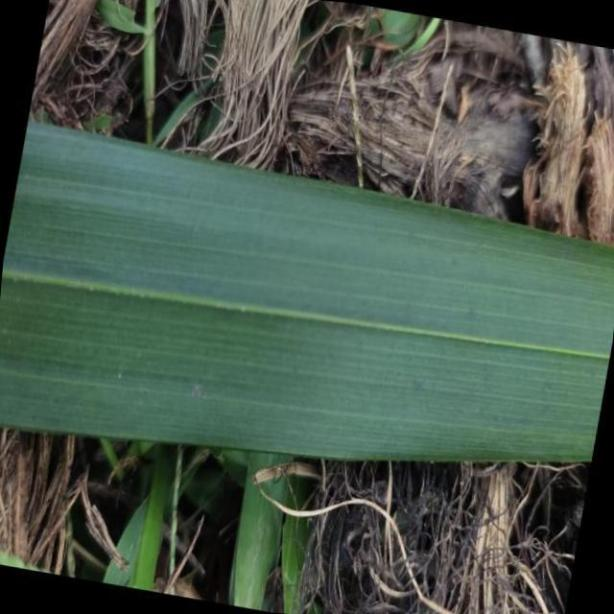Healthy: (0, 123, 614, 459)
